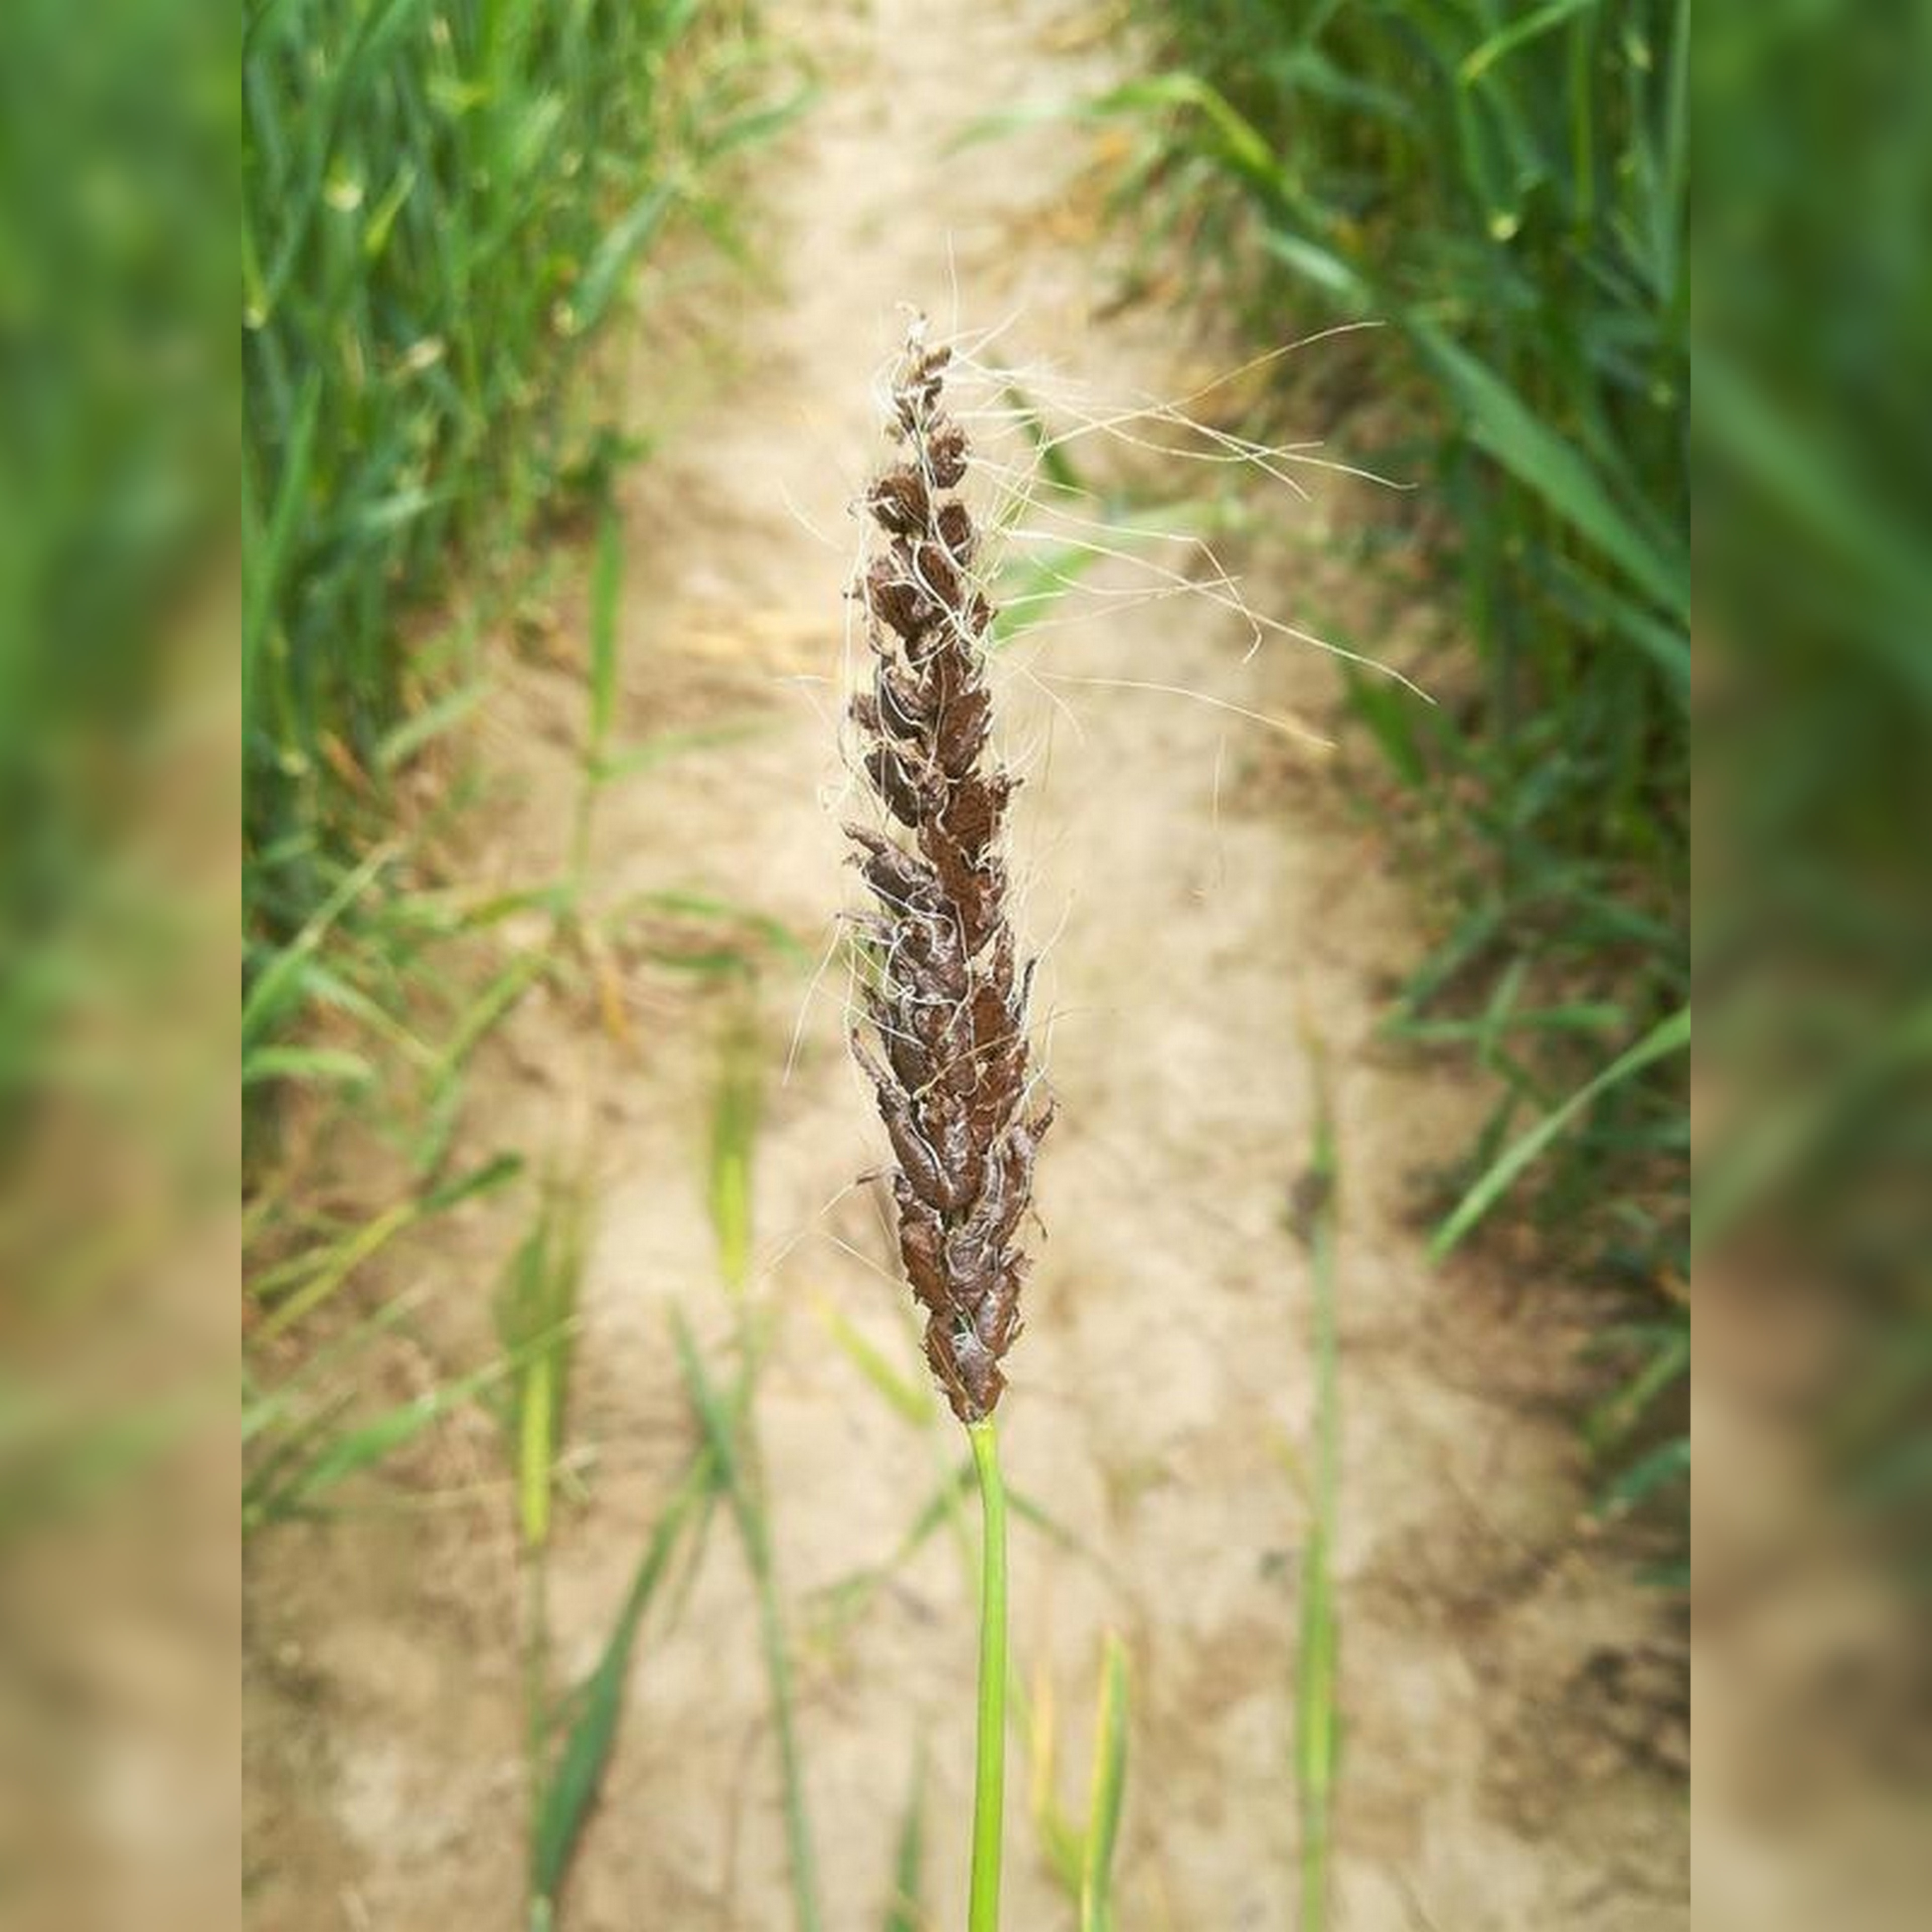Wheat Loose Smut: (807, 318, 1086, 1422)
